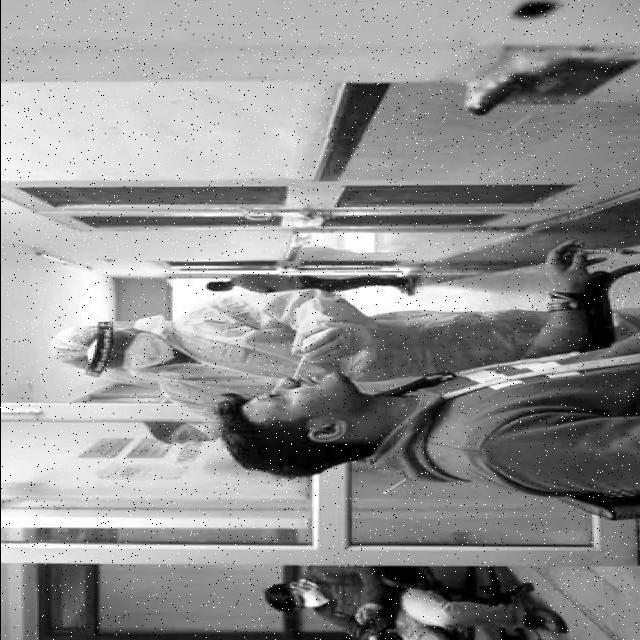apron: (290, 326, 350, 358)
